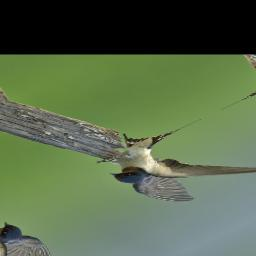Swallow: (75, 107, 256, 216)
